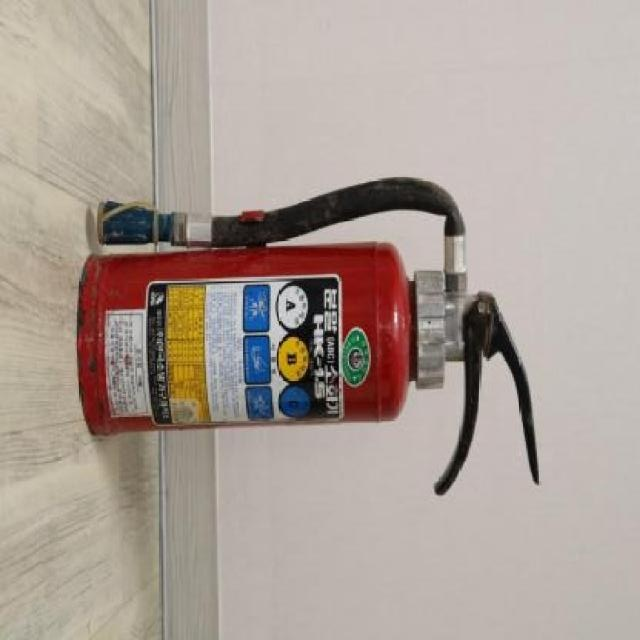fire extinguisher: (76, 174, 542, 497)
